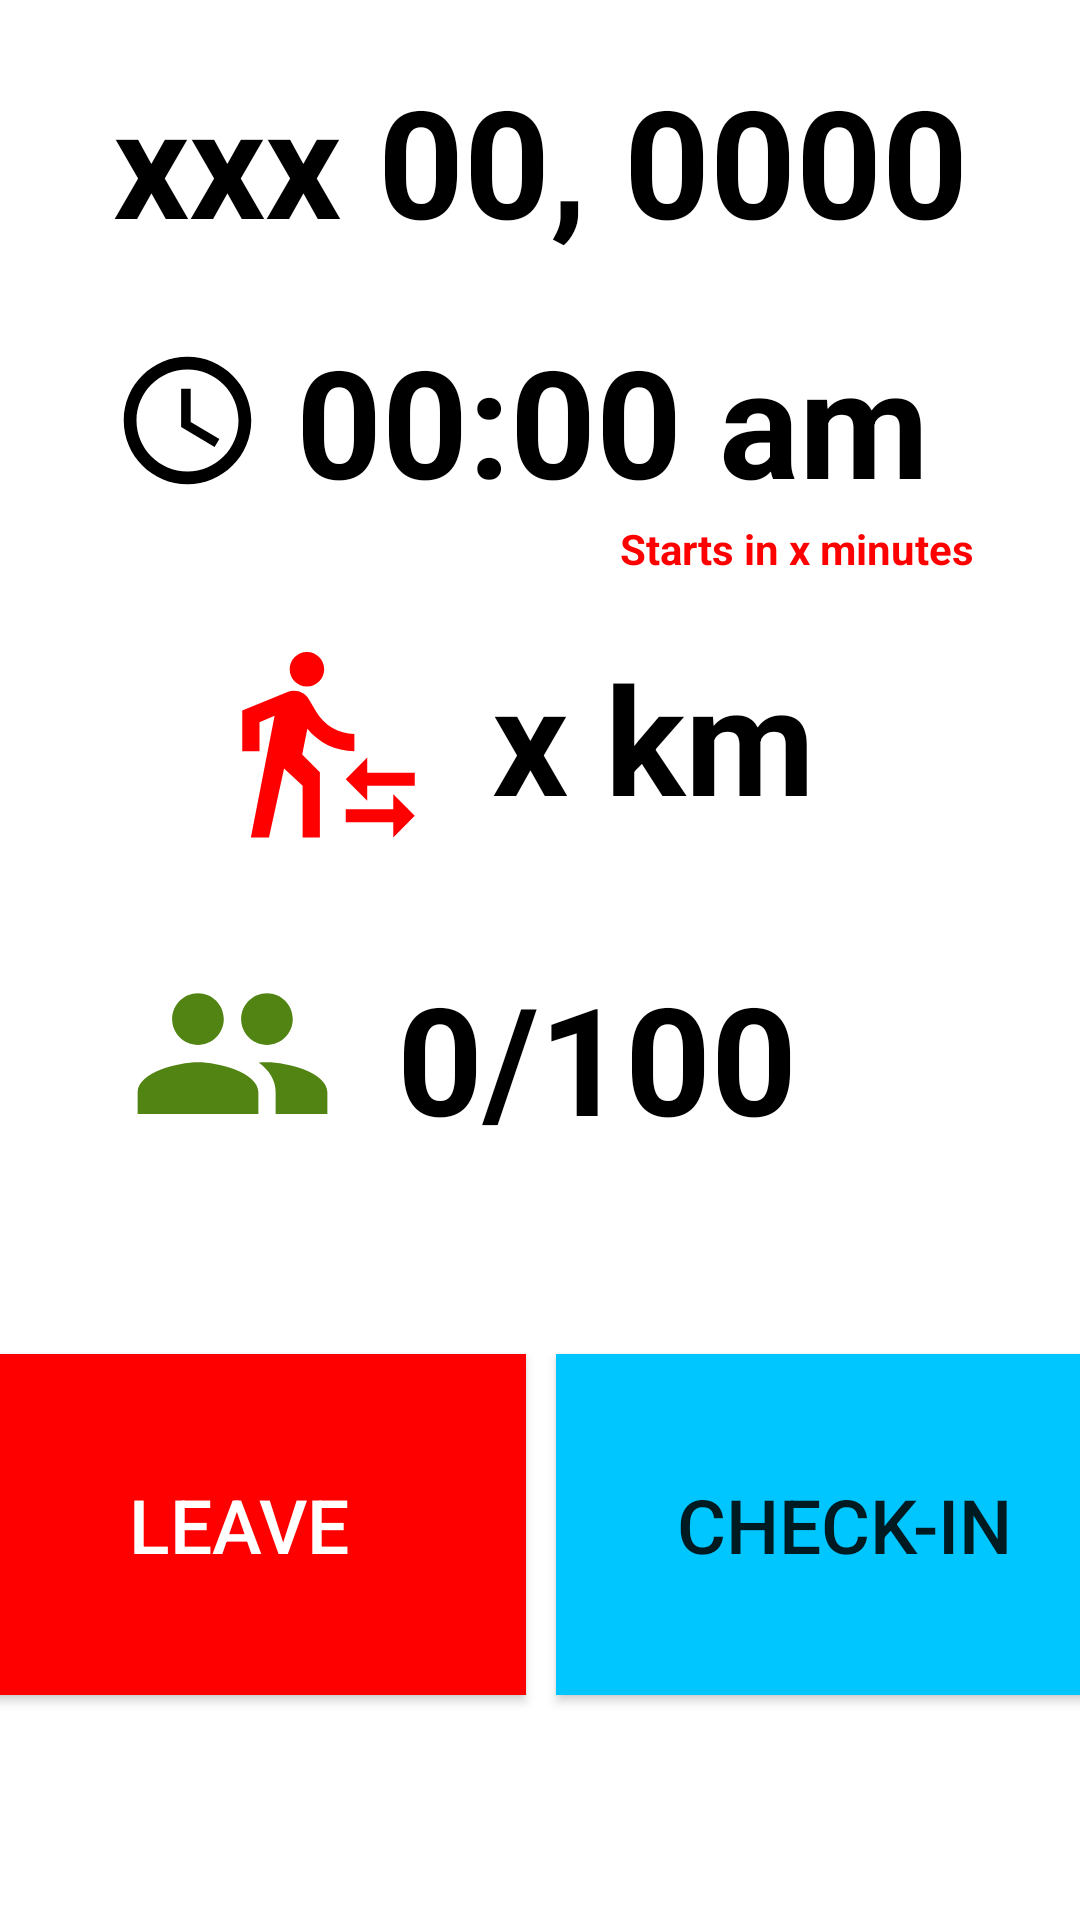

Icons on this 1080px x 1920px Android screen, each with its box as region(x1, y1, x2, y2):
access time: region(123, 356, 252, 485)
people: region(137, 993, 328, 1114)
transfer within station: region(242, 652, 415, 838)
